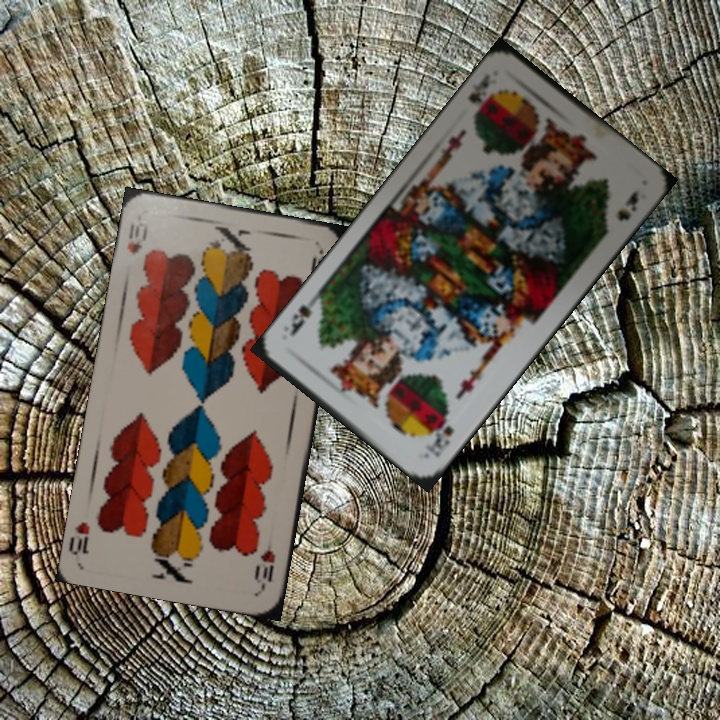H10: (251, 534, 278, 591), (123, 218, 151, 258)
SK: (463, 70, 497, 123), (421, 415, 457, 460)
